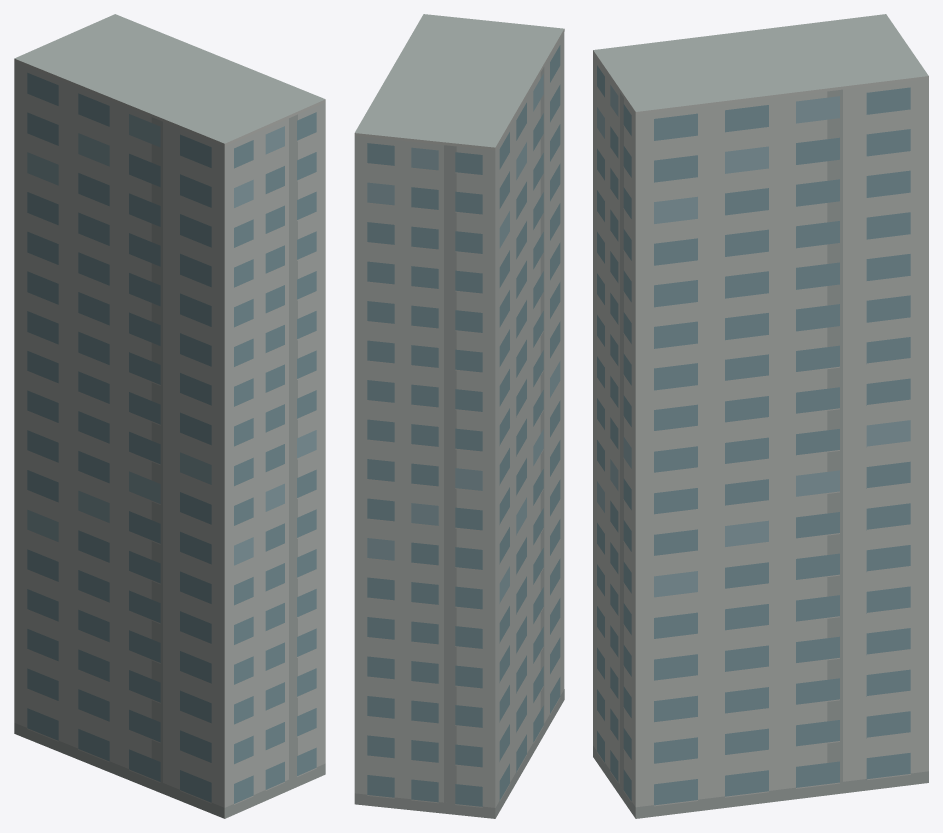
File: residential-09e5f89d-7538-4ae0-a448-4e212ea7b051.glb
3 views of the same model, side by side, from view 1: azimuth 30°, elevation 25°; view 2: azimuth 150°, elevation 25°; view 3: azimuth 270°, elevation 25° (orthographic). The views are drawn at different scales.
Visible parts, largest first — view 1: residential-09e5f89d-7538-4ae0-a448-4e212ea7b051.tmp; view 2: residential-09e5f89d-7538-4ae0-a448-4e212ea7b051.tmp; view 3: residential-09e5f89d-7538-4ae0-a448-4e212ea7b051.tmp.
Boxes of the visible parts, left/top/right/bottom form: residential-09e5f89d-7538-4ae0-a448-4e212ea7b051.tmp: left=14, top=14, right=325, bottom=818; residential-09e5f89d-7538-4ae0-a448-4e212ea7b051.tmp: left=354, top=14, right=564, bottom=818; residential-09e5f89d-7538-4ae0-a448-4e212ea7b051.tmp: left=593, top=14, right=928, bottom=818.
Size of the model in its own units: 16.96 by 57 by 24.55.
